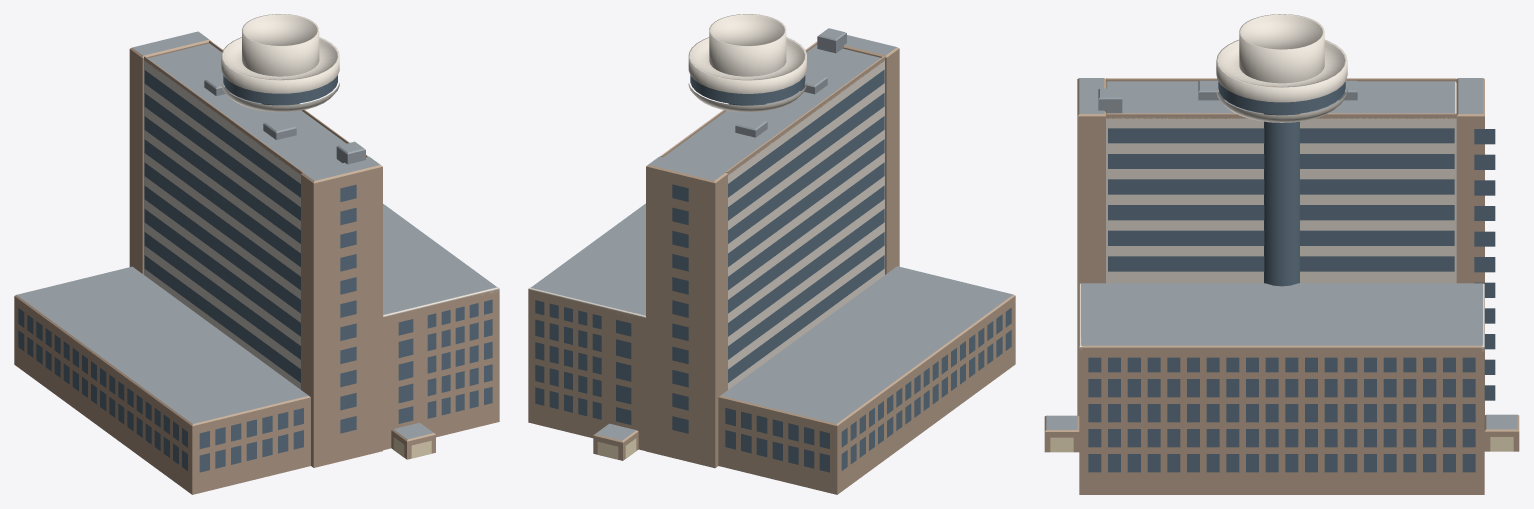
Rendered from phx-hyatt-regency.glb.
3 renders of one model, left to right at view 1: azimuth 30°, elevation 25°; view 2: azimuth 150°, elevation 25°; view 3: azimuth 270°, elevation 25°, orthographic. The views are drawn at different scales.
Parts seen in each view (by area): view 1: Hyatt Regency Phoenix; view 2: Hyatt Regency Phoenix; view 3: Hyatt Regency Phoenix.
Boxes of the visible parts, left/top/right/bottom form: Hyatt Regency Phoenix: left=14, top=14, right=499, bottom=494; Hyatt Regency Phoenix: left=528, top=14, right=1015, bottom=494; Hyatt Regency Phoenix: left=1044, top=14, right=1519, bottom=494.
Size of the model in its own units: 82.2 by 91.4 by 99.9.
